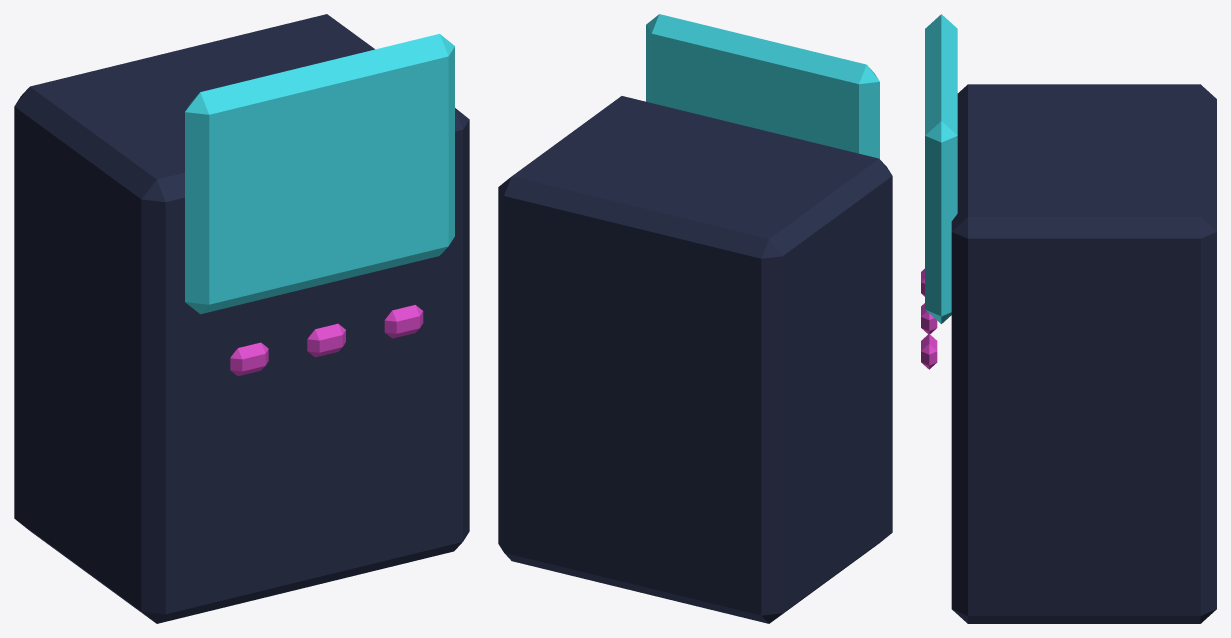
Rendered from holo-terminal.glb.
3 renders of one model, left to right at view 1: azimuth 30°, elevation 25°; view 2: azimuth 150°, elevation 25°; view 3: azimuth 270°, elevation 25°, orthographic. The views are drawn at different scales.
Parts seen in each view (by area): view 1: terminal-base, terminal-screen, terminal-key.002, terminal-key, terminal-key.001; view 2: terminal-base, terminal-screen; view 3: terminal-base, terminal-screen, terminal-key.002.
Boxes of the visible parts, x1=… form: terminal-base: x1=14, y1=14, x2=469, y2=623; terminal-screen: x1=185, y1=34, x2=454, y2=314; terminal-key.002: x1=384, y1=305, x2=423, y2=338; terminal-key: x1=230, y1=342, x2=268, y2=376; terminal-key.001: x1=307, y1=323, x2=345, y2=357; terminal-base: x1=498, y1=96, x2=892, y2=623; terminal-screen: x1=646, y1=14, x2=879, y2=158; terminal-base: x1=951, y1=84, x2=1216, y2=623; terminal-screen: x1=925, y1=14, x2=957, y2=323; terminal-key.002: x1=921, y1=333, x2=937, y2=369.
Size of the model in its own units: 0.85 by 1.32 by 0.725.
